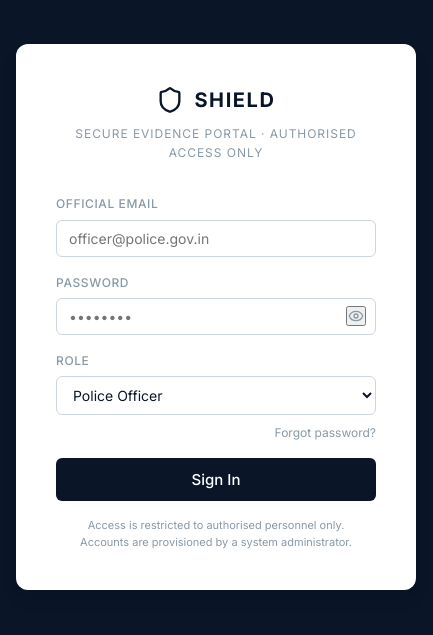
Test: LoginPage › shows error when submitting with empty fields
Click the button "Sign In".
click(216, 480)  # box 56,458 -> 376,501
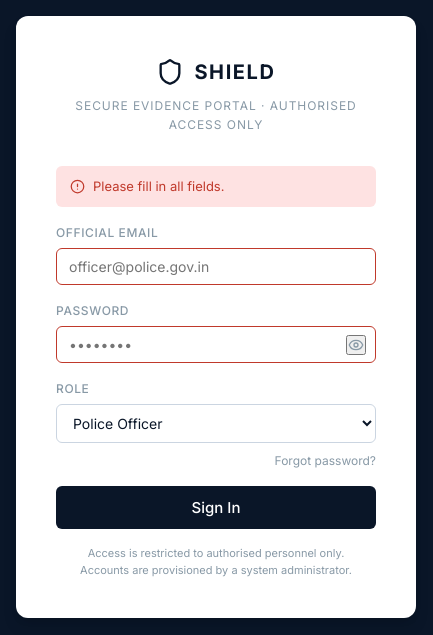
Result: the message reads "Please fill in all fields." at 93,178 -> 224,194
